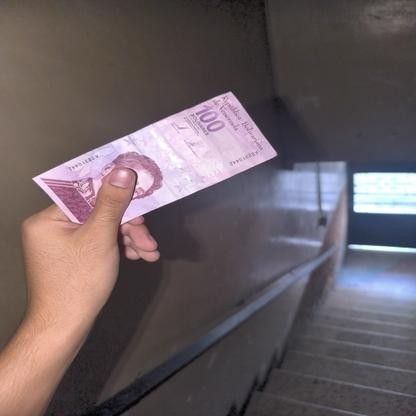one_hundred-front-vef: (32, 90, 278, 226)
